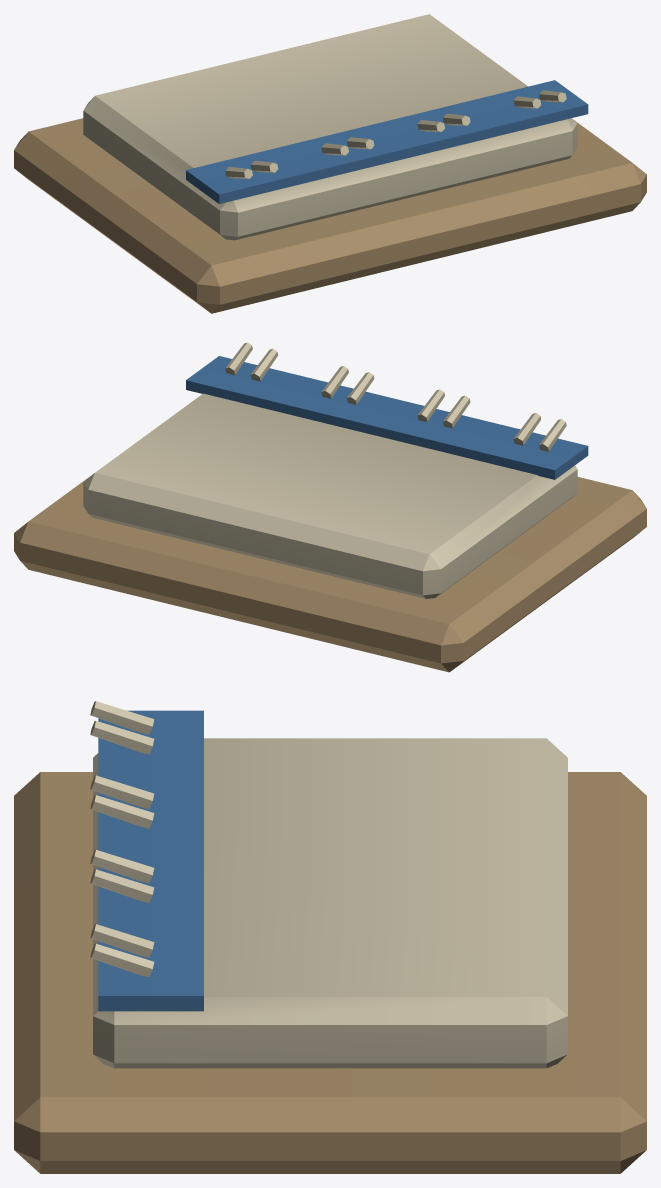
The model's file is mending_cloth.glb.
3 views of the same model, one above another, from view 1: azimuth 30°, elevation 25°; view 2: azimuth 150°, elevation 25°; view 3: azimuth 270°, elevation 25° (orthographic). The views are drawn at different scales.
Parts seen in each view (by area): view 1: mending_cloth; view 2: mending_cloth; view 3: mending_cloth.
Part boxes in pixels (left/top/right/bottom): mending_cloth: left=14, top=14, right=646, bottom=313; mending_cloth: left=14, top=342, right=646, bottom=672; mending_cloth: left=14, top=701, right=646, bottom=1173.
Size of the model in its own units: 0.78 by 0.1974 by 0.6.
